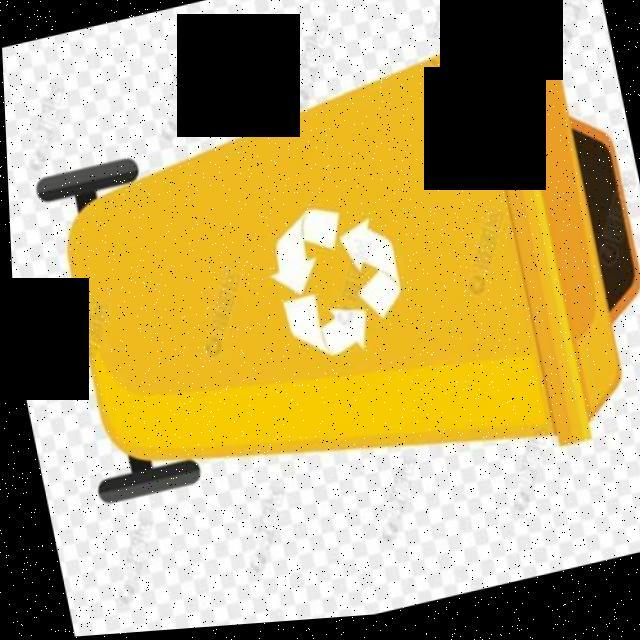bin: (2, 0, 640, 576)
